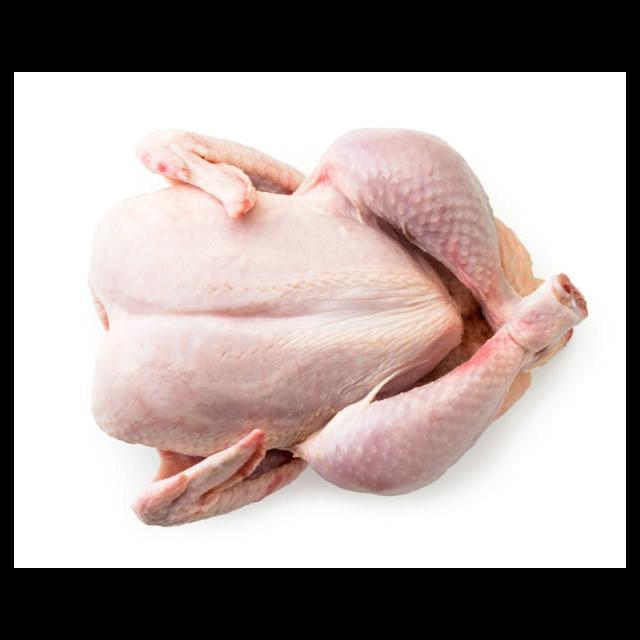chicken: (83, 120, 588, 528)
